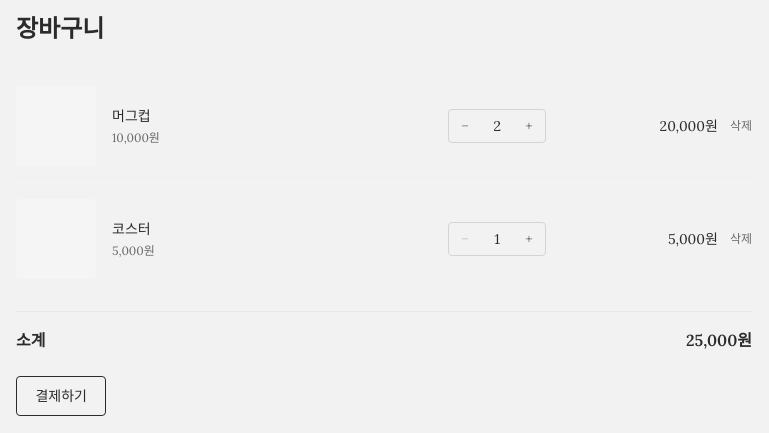
Test case: CartView — AC-STOREFRONT-021 › DELETEs the item and redraws with only the remaining item
Click the button with aria-label "머그컵 삭제".
click(741, 126)  # box [730, 118, 752, 134]
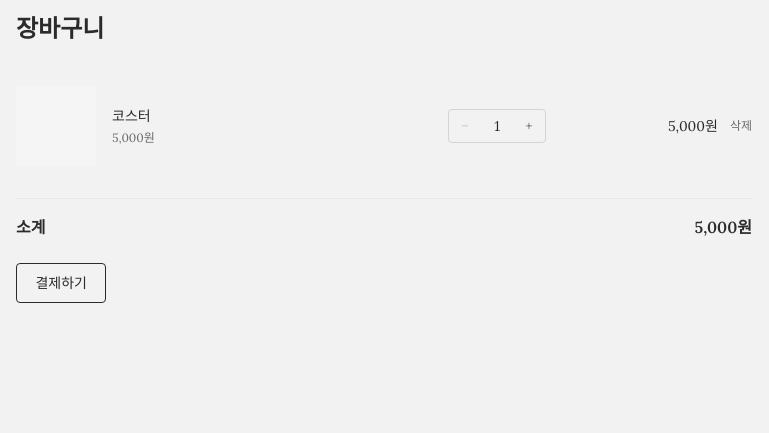
Expected: the text "코스터" is shown, [112, 107, 151, 125]
Now the text "머그컵" is gone
